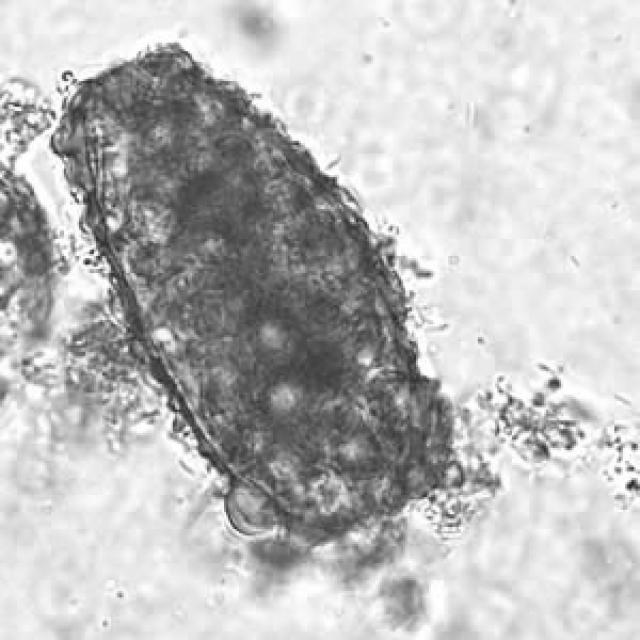Ascaris Lumbricoides: (43, 42, 426, 562)
